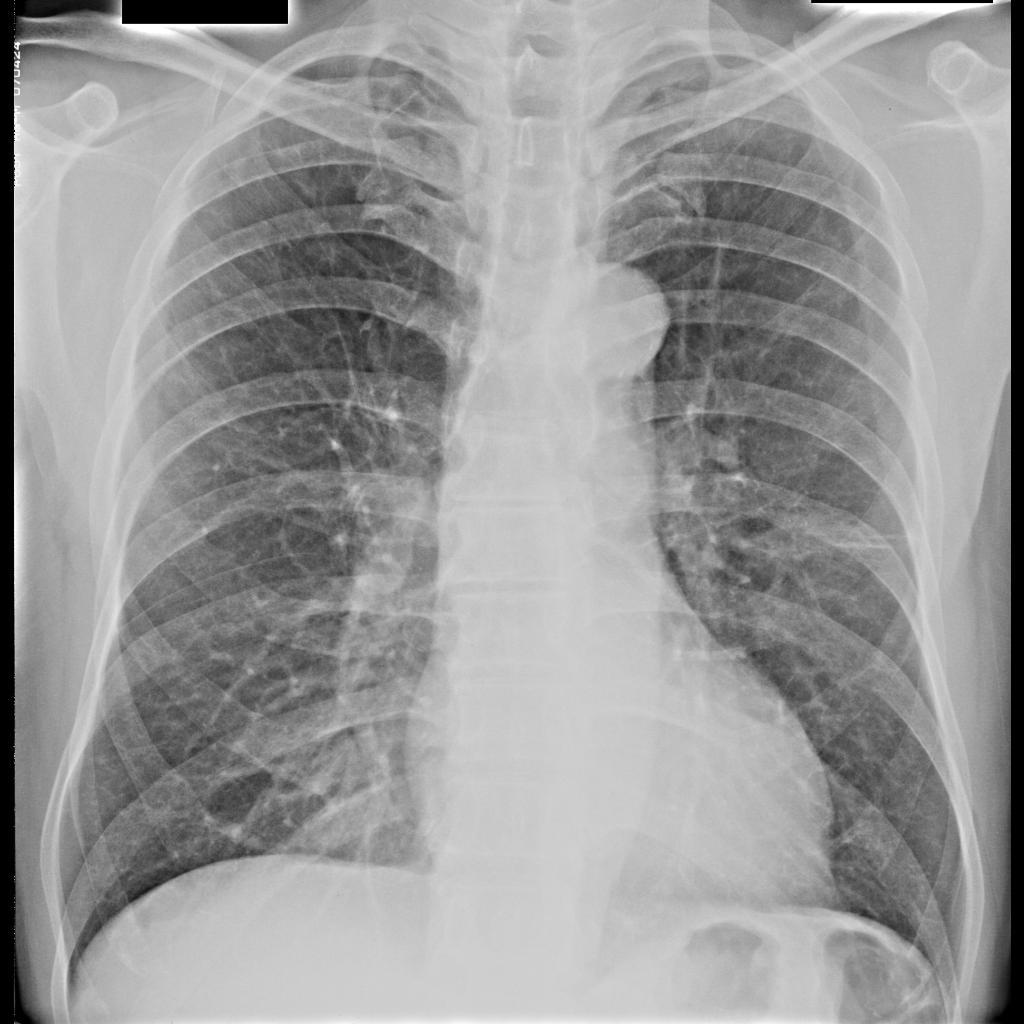Nodule: (780, 514, 828, 562)
